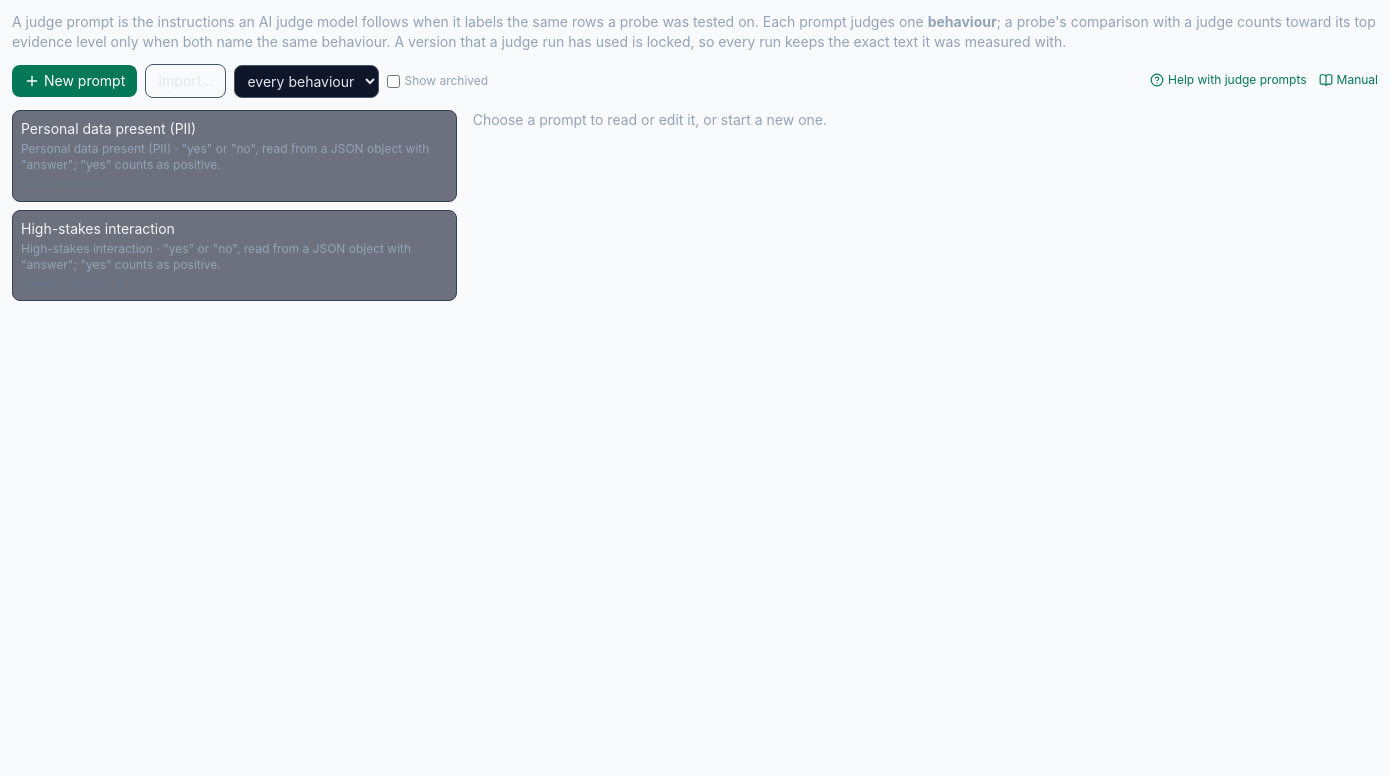
Test case: the library › a LOCKED version says "used by N runs" and its content cannot be typed into
The image size is (1390, 776).
Click the button with test id "judge-prompt-row" that starts with "Personal data present (PII)" at [234, 156], box [12,110,457,202]
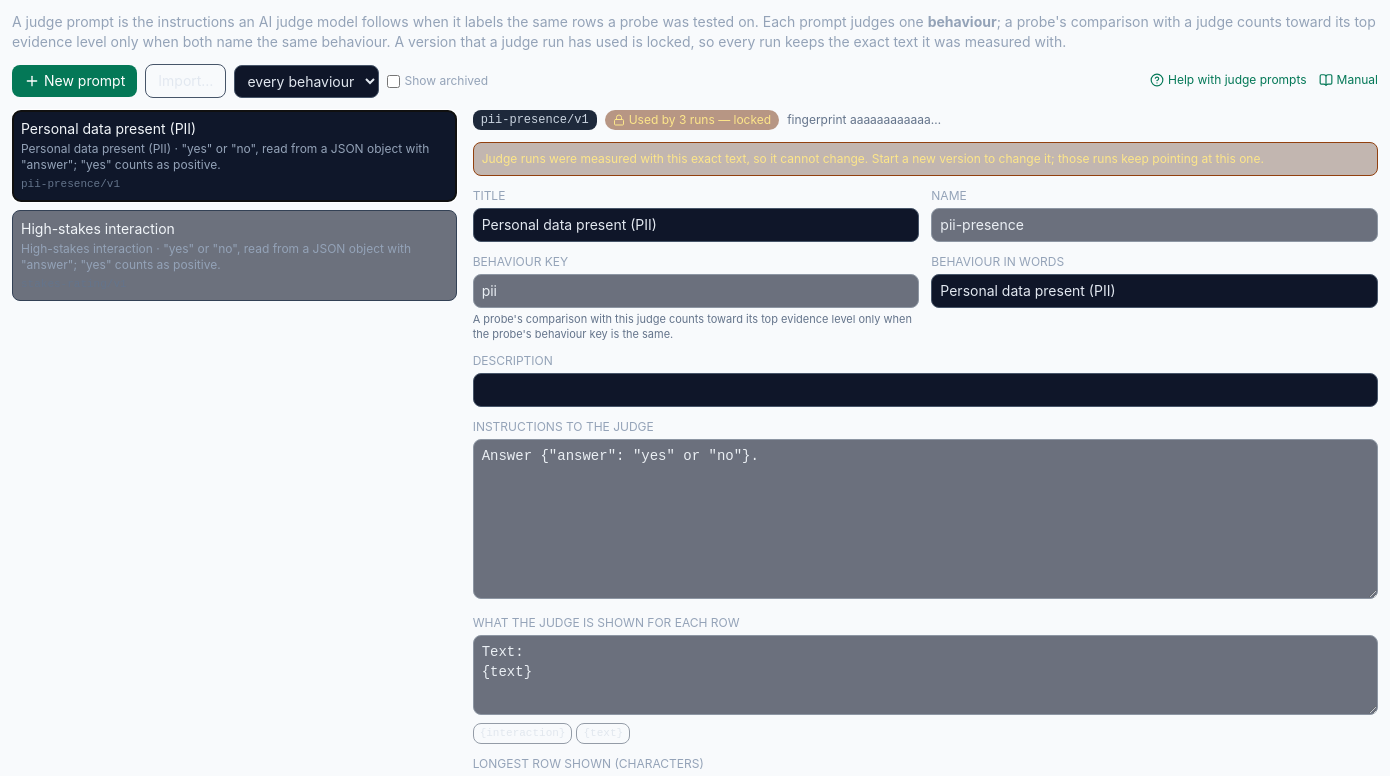
Check: the element with test id "judge-prompt-lock" reads "Used by 3 runs — locked", box [605,110,779,130]
Check: the text box with test id "judge-prompt-system" is disabled, box [473,439,1378,599]
Check: the field with test id "judge-prompt-behaviour" is disabled, box [473,274,919,308]
